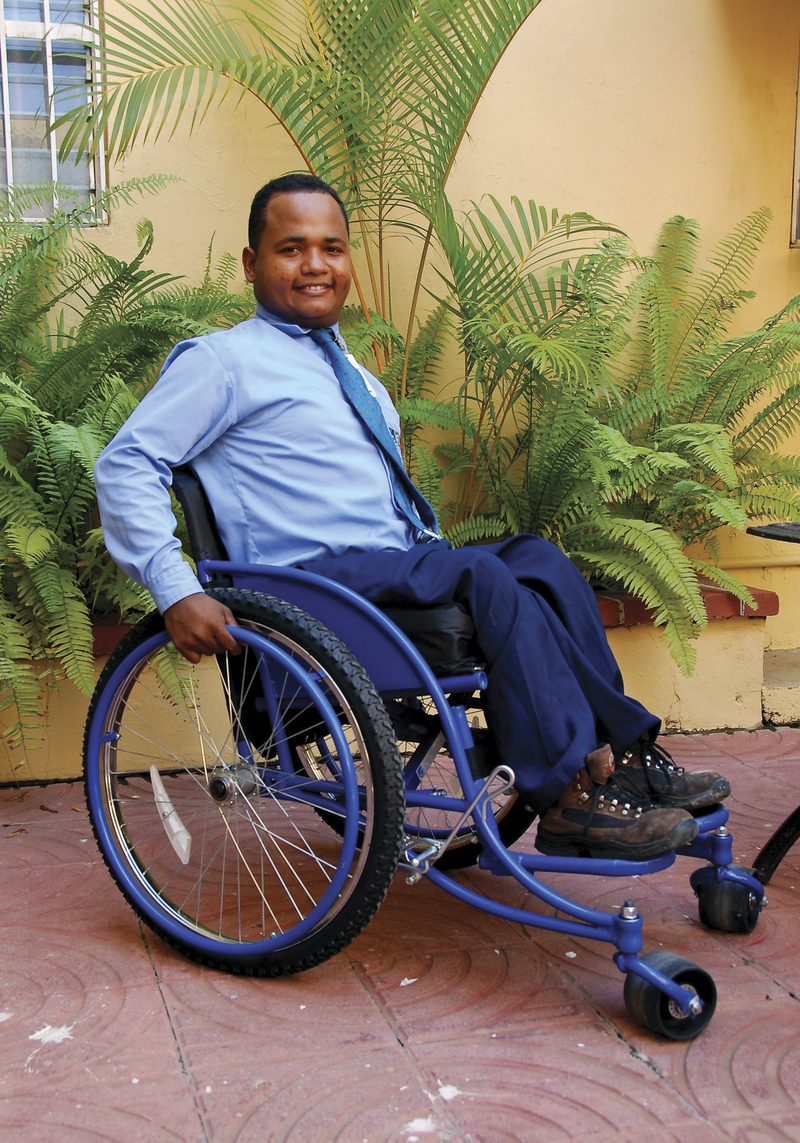wheelchair: (80, 175, 762, 1042)
